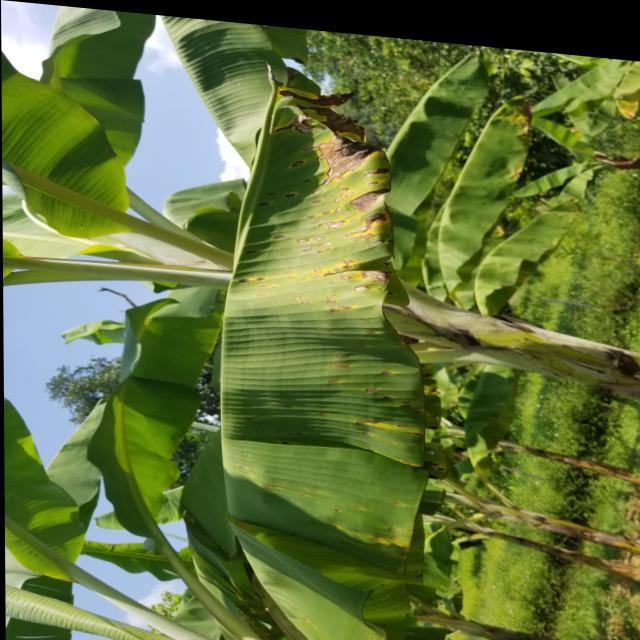Early_rust: (215, 49, 456, 427), (476, 68, 550, 190), (595, 66, 640, 139)
